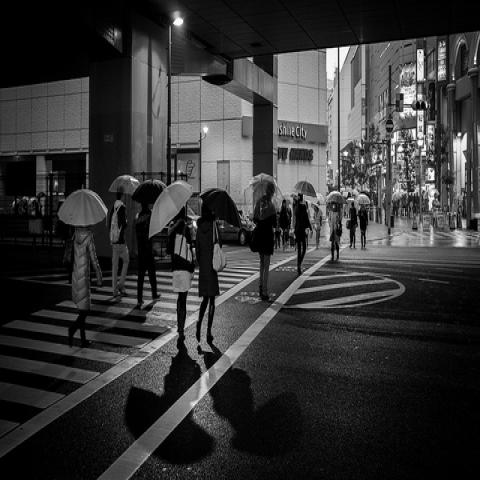car: (216, 213, 253, 247)
